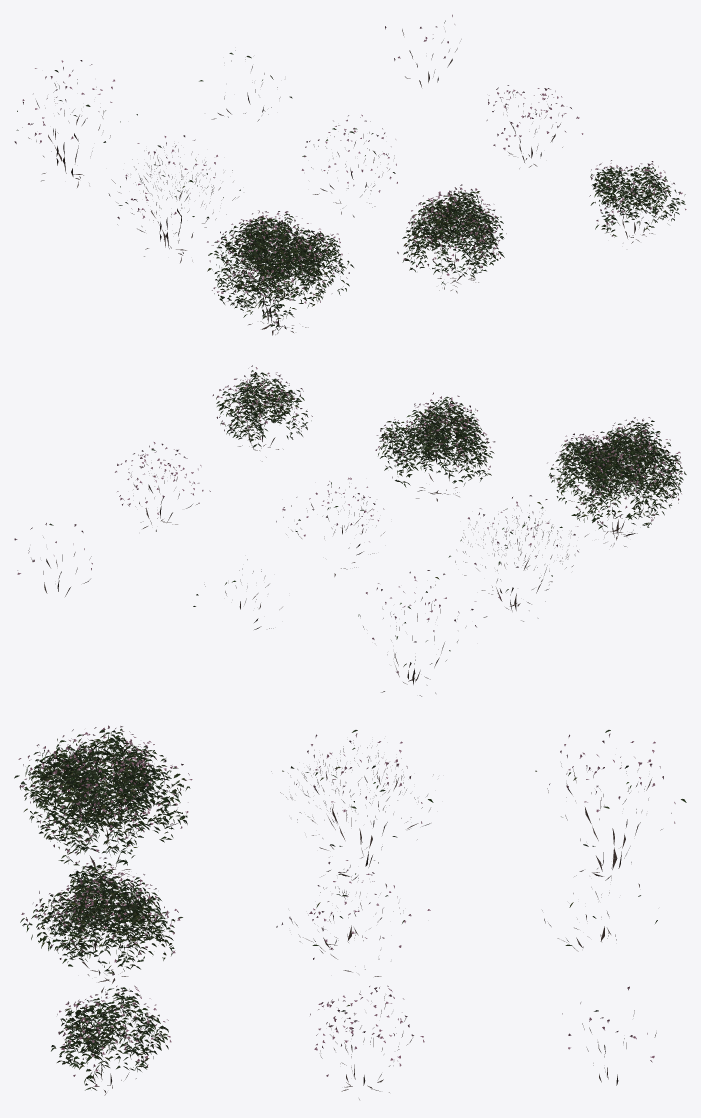
Rendered from oleander.glb.
3 renders of one model, top to bottom at view 1: azimuth 30°, elevation 25°; view 2: azimuth 150°, elevation 25°; view 3: azimuth 270°, elevation 25°, orthographic. The views are drawn at different scales.
Parts seen in each view (by area): view 1: oleander-test; view 2: oleander-test; view 3: oleander-test.
Part boxes in pixels (x1,y1,x2,y2): oleander-test: (14,14,686,335); oleander-test: (14,365,686,696); oleander-test: (14,725,686,1099).
Size of the model in its own units: 8.01 by 1.93 by 8.18.
3 materials, 3 textured.
